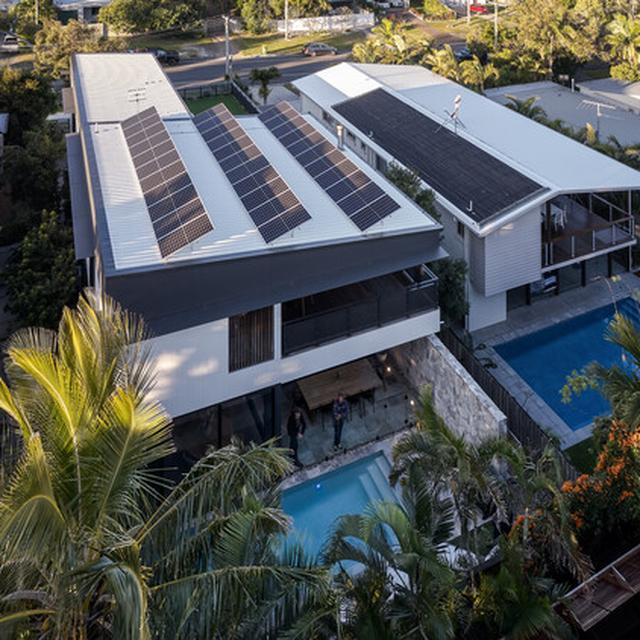building: (65, 51, 445, 427), (292, 62, 640, 312)
